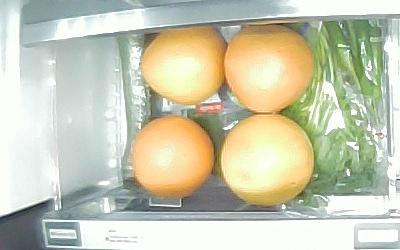grapefruit: (222, 112, 315, 207), (223, 24, 317, 113), (129, 116, 215, 198), (140, 28, 227, 104)
